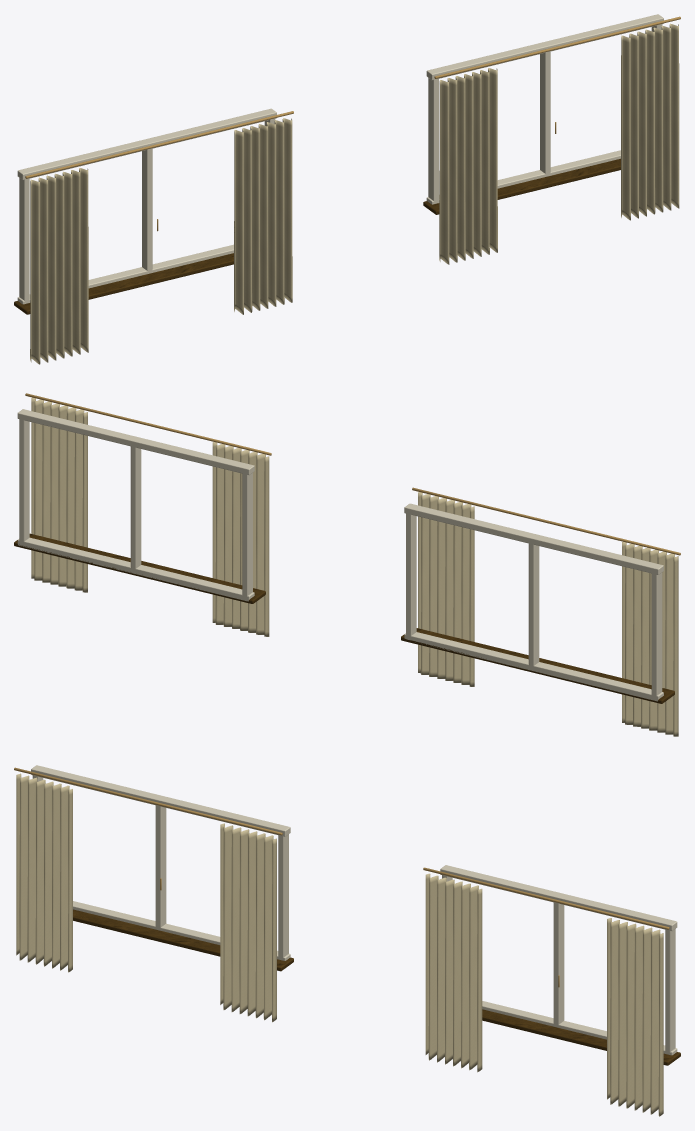
File: SM_WindowsCurtains.glb
3 renders of one model, top to bottom at view 1: azimuth 30°, elevation 25°; view 2: azimuth 150°, elevation 25°; view 3: azimuth 330°, elevation 25°, orthographic.
Visible parts, largest first — view 1: SM_WindowsCurtains; view 2: SM_WindowsCurtains; view 3: SM_WindowsCurtains.
Boxes of the visible parts, x1,y1,x2,y2 form: SM_WindowsCurtains: (14,14,680,364); SM_WindowsCurtains: (14,393,680,736); SM_WindowsCurtains: (14,765,680,1116).
Bounding box in the file's own units: 8.8 × 2.41 × 0.46.
Materials: 4 (2 with a texture image).
